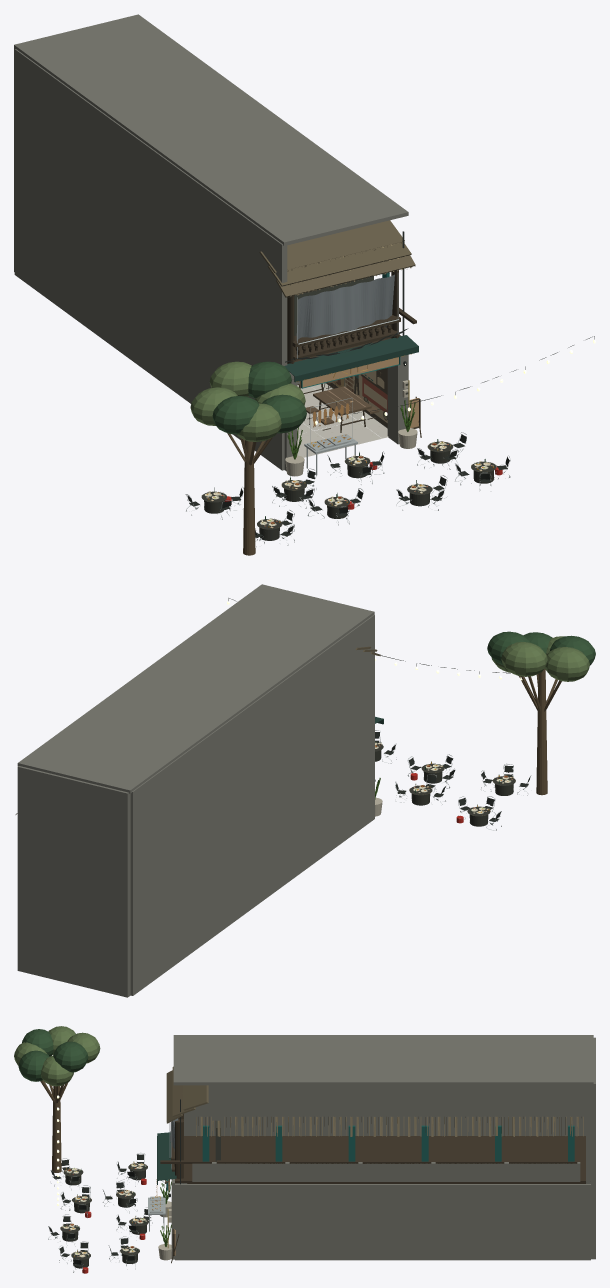
The model's file is seven-kho-lod1.glb.
3 renders of one model, top to bottom at view 1: azimuth 30°, elevation 25°; view 2: azimuth 150°, elevation 25°; view 3: azimuth 270°, elevation 25°, orthographic. The views are drawn at different scales.
Visible parts, largest first — view 1: lod1-3, lod1-10, lod1-1, lod1-35, lod1-54, lod1-6, lod1-25, lod1-36, lod1-12, lod1-7, lod1-24, lod1-53 (+6 smaller); view 2: lod1-3, lod1-35, lod1-53, lod1-54, lod1-25, lod1-24; view 3: lod1-3, lod1-6, lod1-10, lod1-54, lod1-35, lod1-25, lod1-0, lod1-24, lod1-7, lod1-53, lod1-12, lod1-27 (+1 smaller).
Boxes of the visible parts, x1,y1,x2,y2 form: lod1-3: [14, 14, 408, 471]; lod1-10: [259, 220, 415, 297]; lod1-1: [296, 274, 394, 340]; lod1-35: [190, 361, 476, 489]; lod1-54: [212, 361, 306, 434]; lod1-6: [221, 270, 421, 499]; lod1-25: [201, 441, 496, 540]; lod1-36: [297, 383, 388, 457]; lod1-12: [284, 335, 418, 382]; lod1-7: [185, 273, 510, 546]; lod1-24: [187, 434, 509, 537]; lod1-53: [227, 433, 272, 555]; lod1-3: [17, 584, 374, 997]; lod1-35: [376, 636, 589, 742]; lod1-53: [519, 669, 561, 795]; lod1-54: [487, 631, 595, 665]; lod1-25: [375, 742, 515, 826]; lod1-24: [375, 732, 530, 821]; lod1-3: [171, 1035, 595, 1260]; lod1-6: [79, 1113, 585, 1263]; lod1-10: [165, 1066, 583, 1183]; lod1-54: [18, 1029, 88, 1081]; lod1-35: [14, 1026, 100, 1251]; lod1-25: [60, 1163, 148, 1268]; lod1-0: [166, 1125, 574, 1190]; lod1-24: [49, 1154, 151, 1266]; lod1-7: [48, 1121, 171, 1273]; lod1-53: [40, 1080, 67, 1172]; lod1-12: [157, 1132, 176, 1184]; lod1-27: [62, 1163, 146, 1257].
Bounding box in the file's own units: 13.84 × 7.54 × 22.39.
